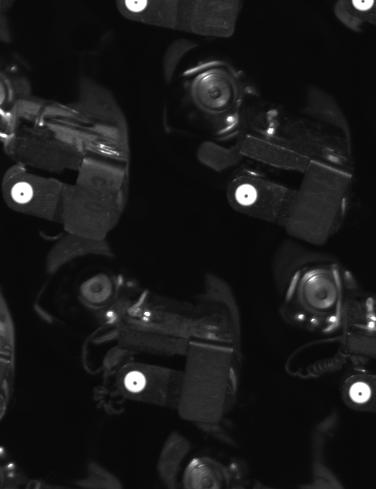fiber: (227, 180, 264, 211), (345, 376, 376, 413), (6, 178, 40, 207), (121, 367, 153, 397), (119, 1, 158, 18), (342, 1, 376, 15)
